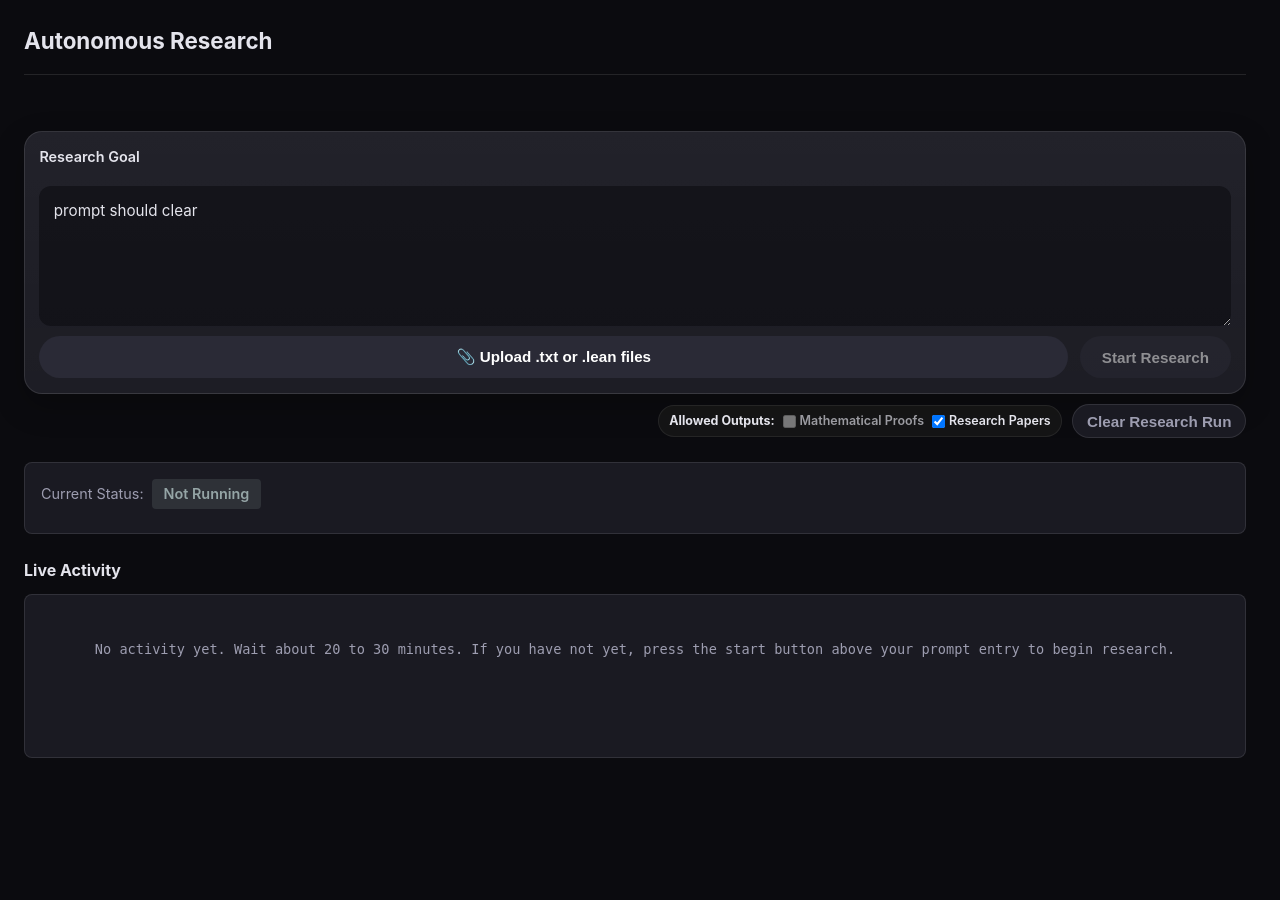
Test: clears autonomous prompt after confirmed clear succeeds
The width and height of the screenshot is (1280, 900).
Check: the text box labelled "Research Goal" holds "prompt should clear", box x1=39 y1=186 x2=1231 y2=326
Click the button "Clear Research Run" at (1159, 421), box x1=1072 y1=404 x2=1246 y2=438
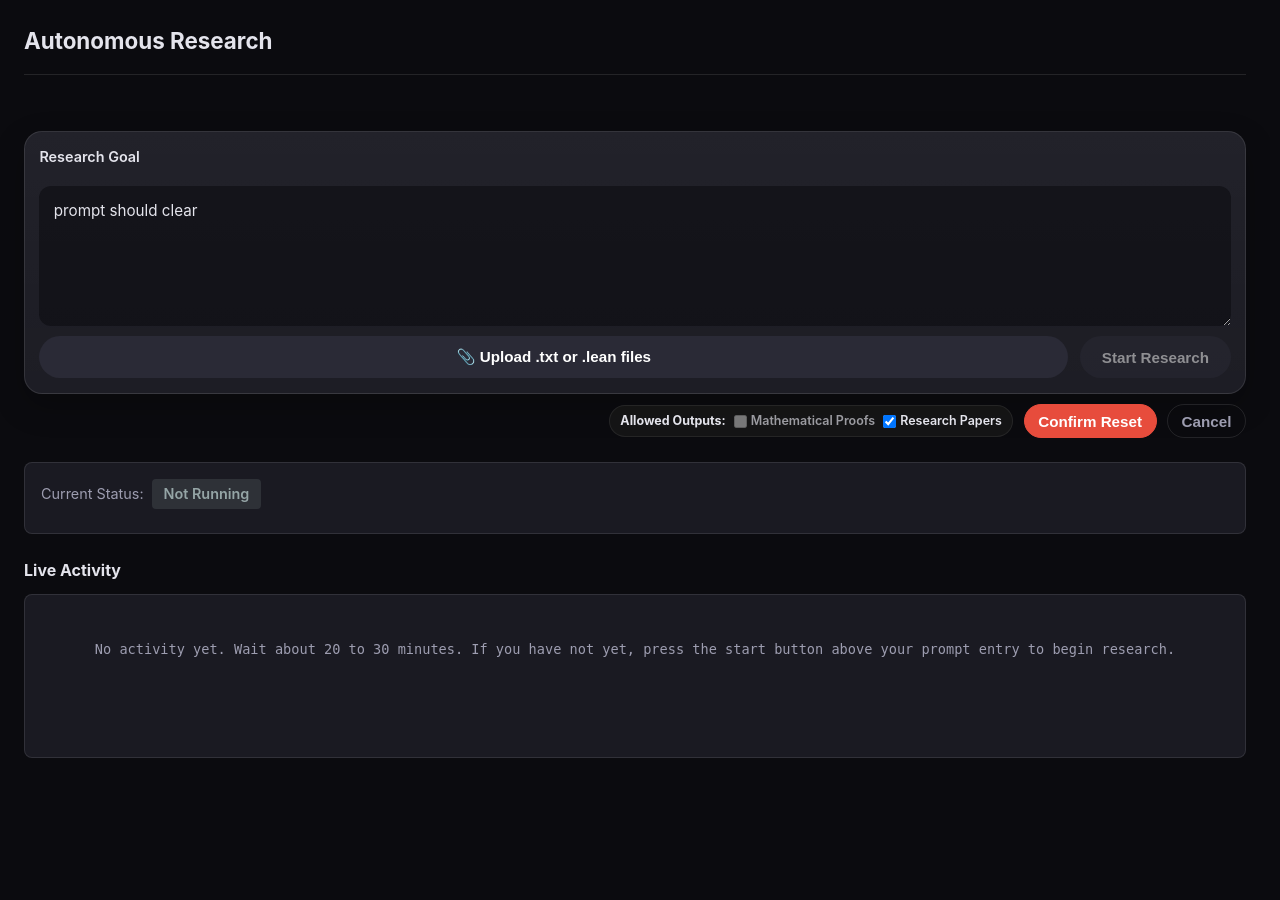
Click the button "Confirm Reset" at (1090, 421), box x1=1024 y1=404 x2=1157 y2=438
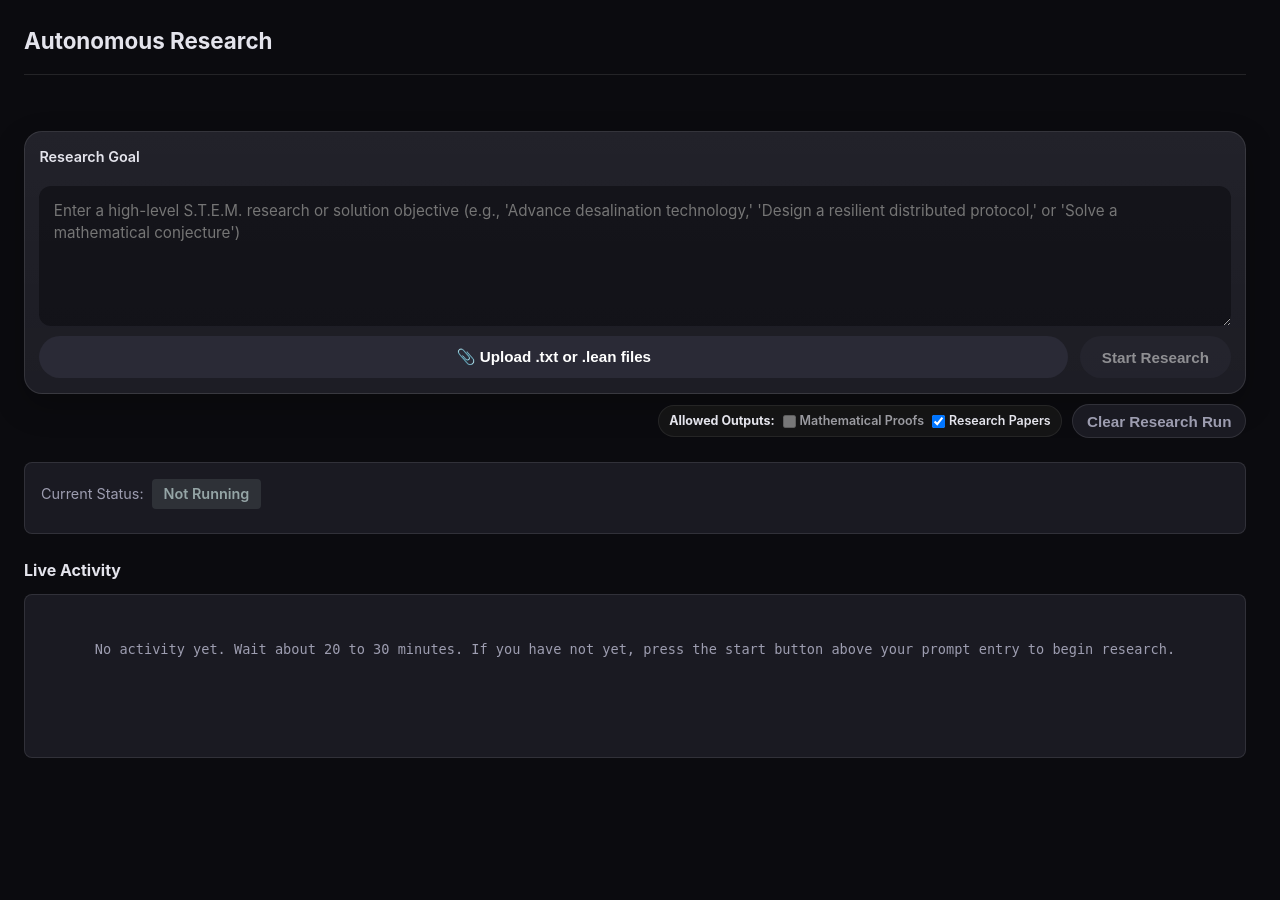
Check: the text box labelled "Research Goal" is empty, box x1=39 y1=186 x2=1231 y2=326
